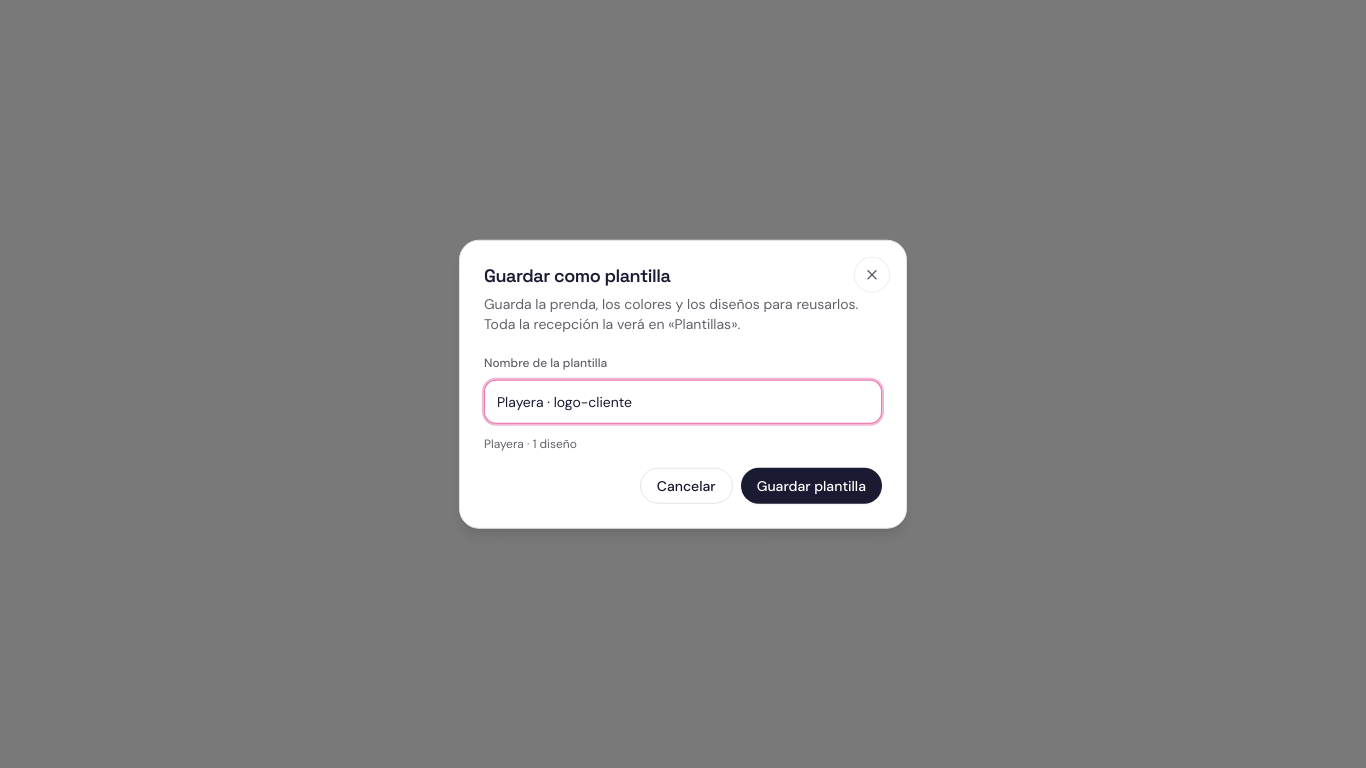
Test: SaveTemplateDialog › sin nombre no guarda; un 413 explica que pesa demasiado
The image size is (1366, 768).
Clear the field labelled "Nombre de la plantilla" at (683, 401), box [484,379,882,423]
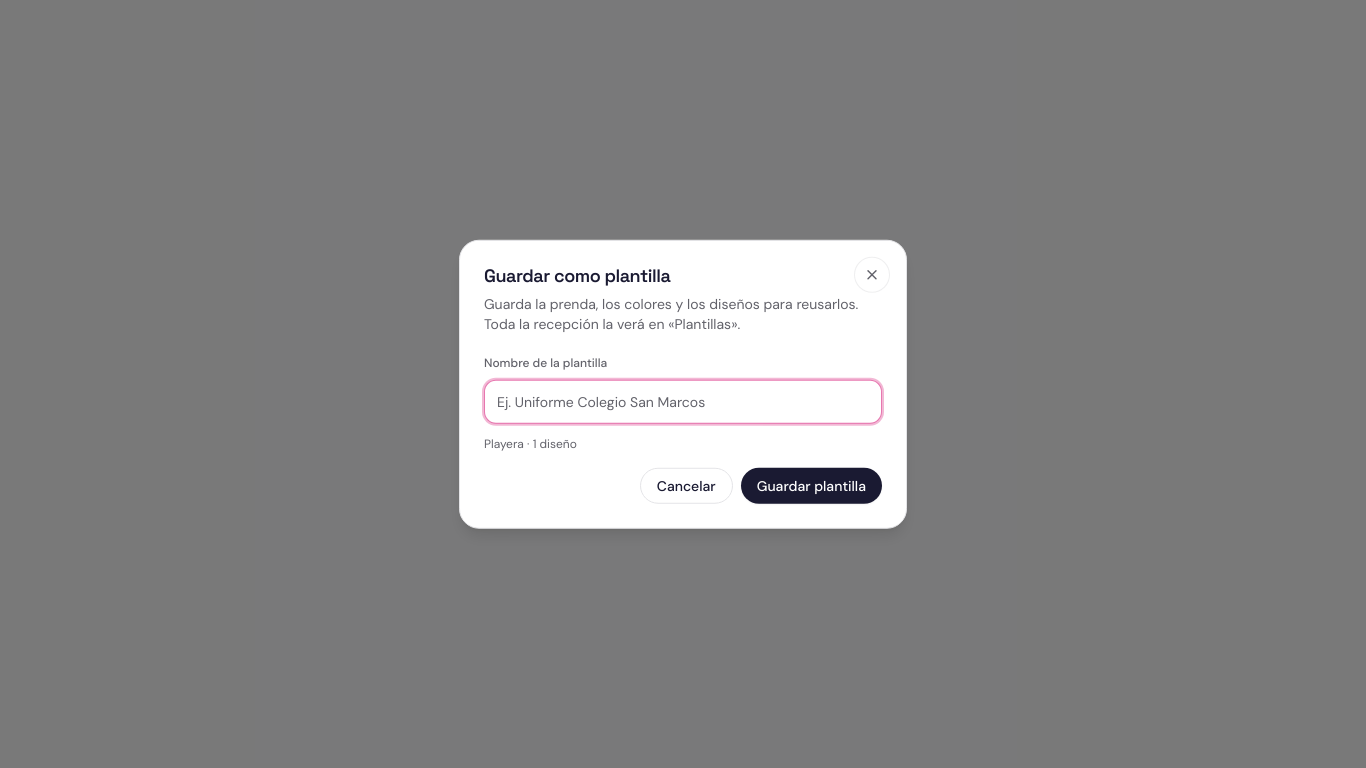
Click the button "Guardar plantilla".
click(811, 485)  # box [741,467,882,503]
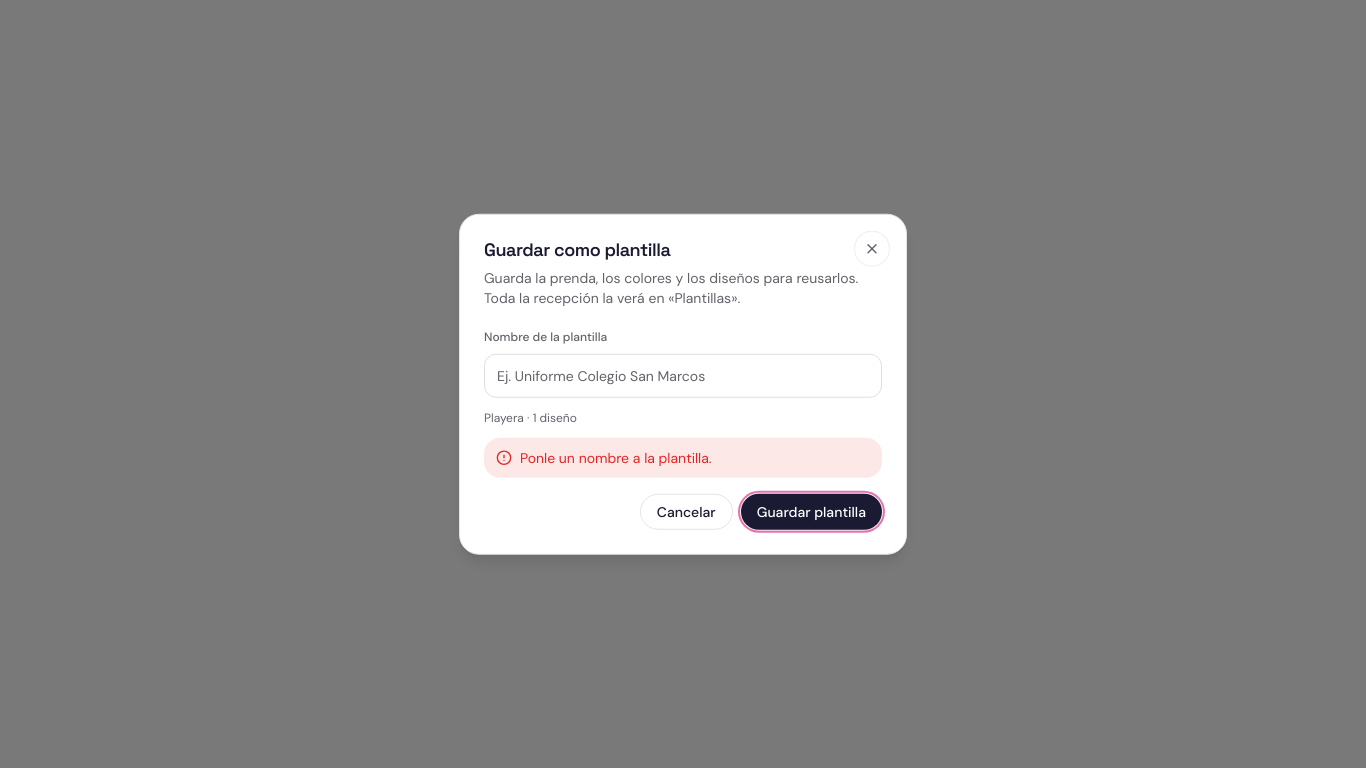
Check: the message reads "Ponle un nombre a la plantilla.", box [520,448,712,466]
Type "Pesada" into the field labelled "Nombre de la plantilla".
click(683, 375); type("Pesada")  # box [484,353,882,397]
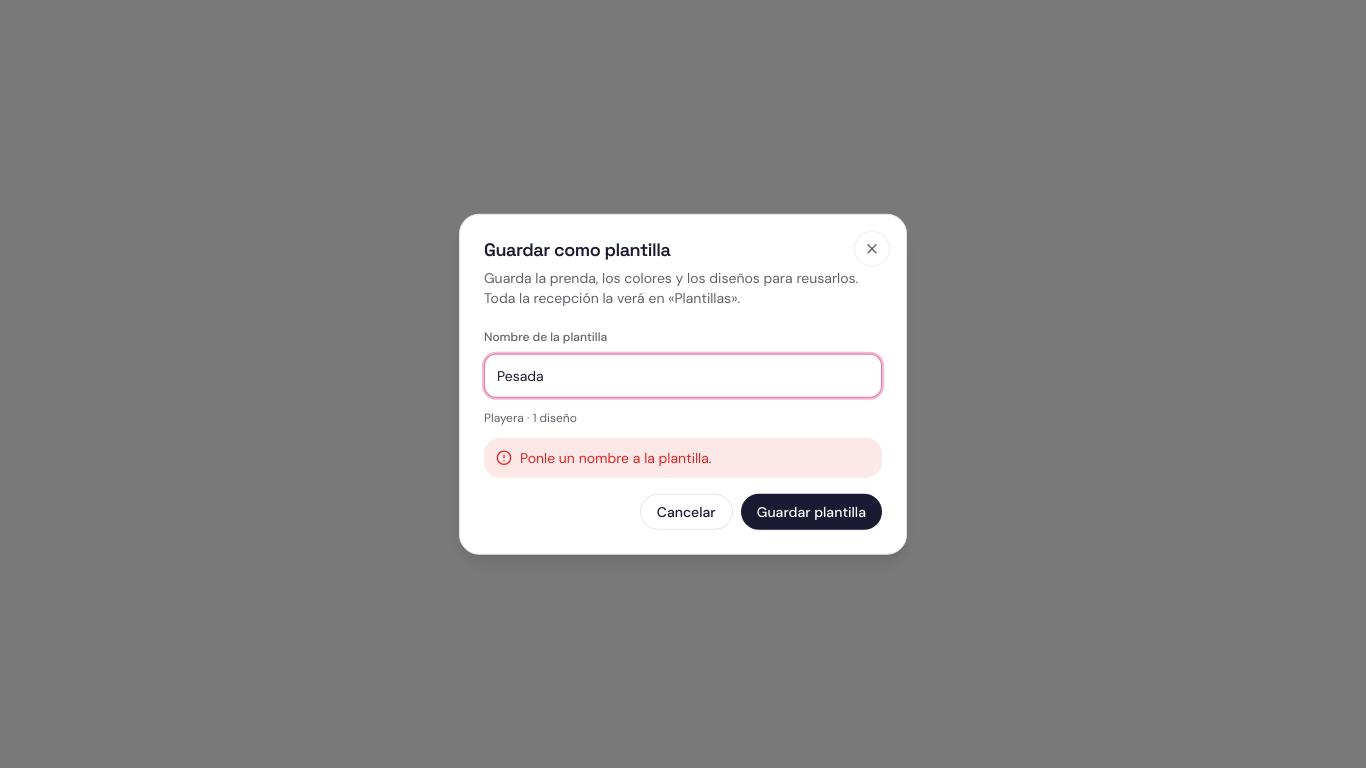
Click the button "Guardar plantilla".
click(811, 511)  # box [741,493,882,529]
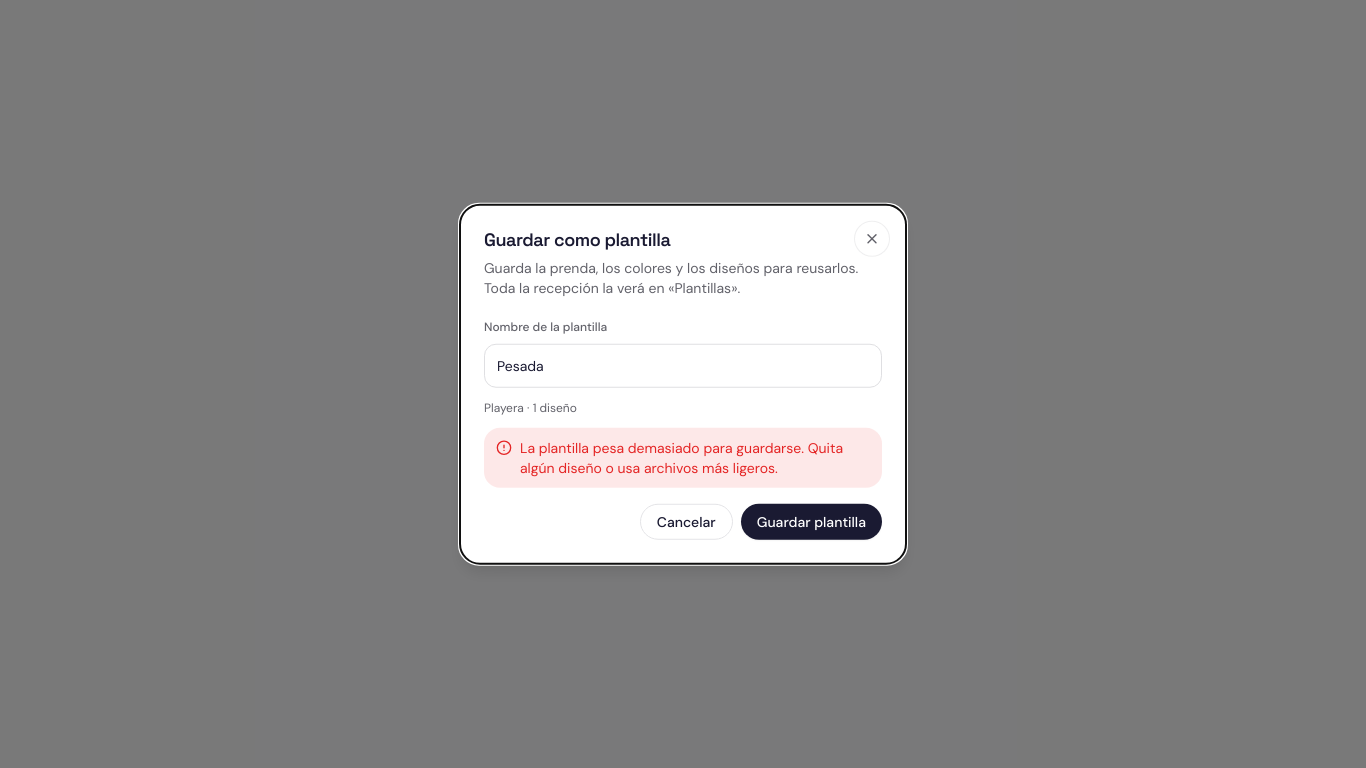
Check: the message shows "La plantilla pesa demasiado", box [520,438,843,476]
